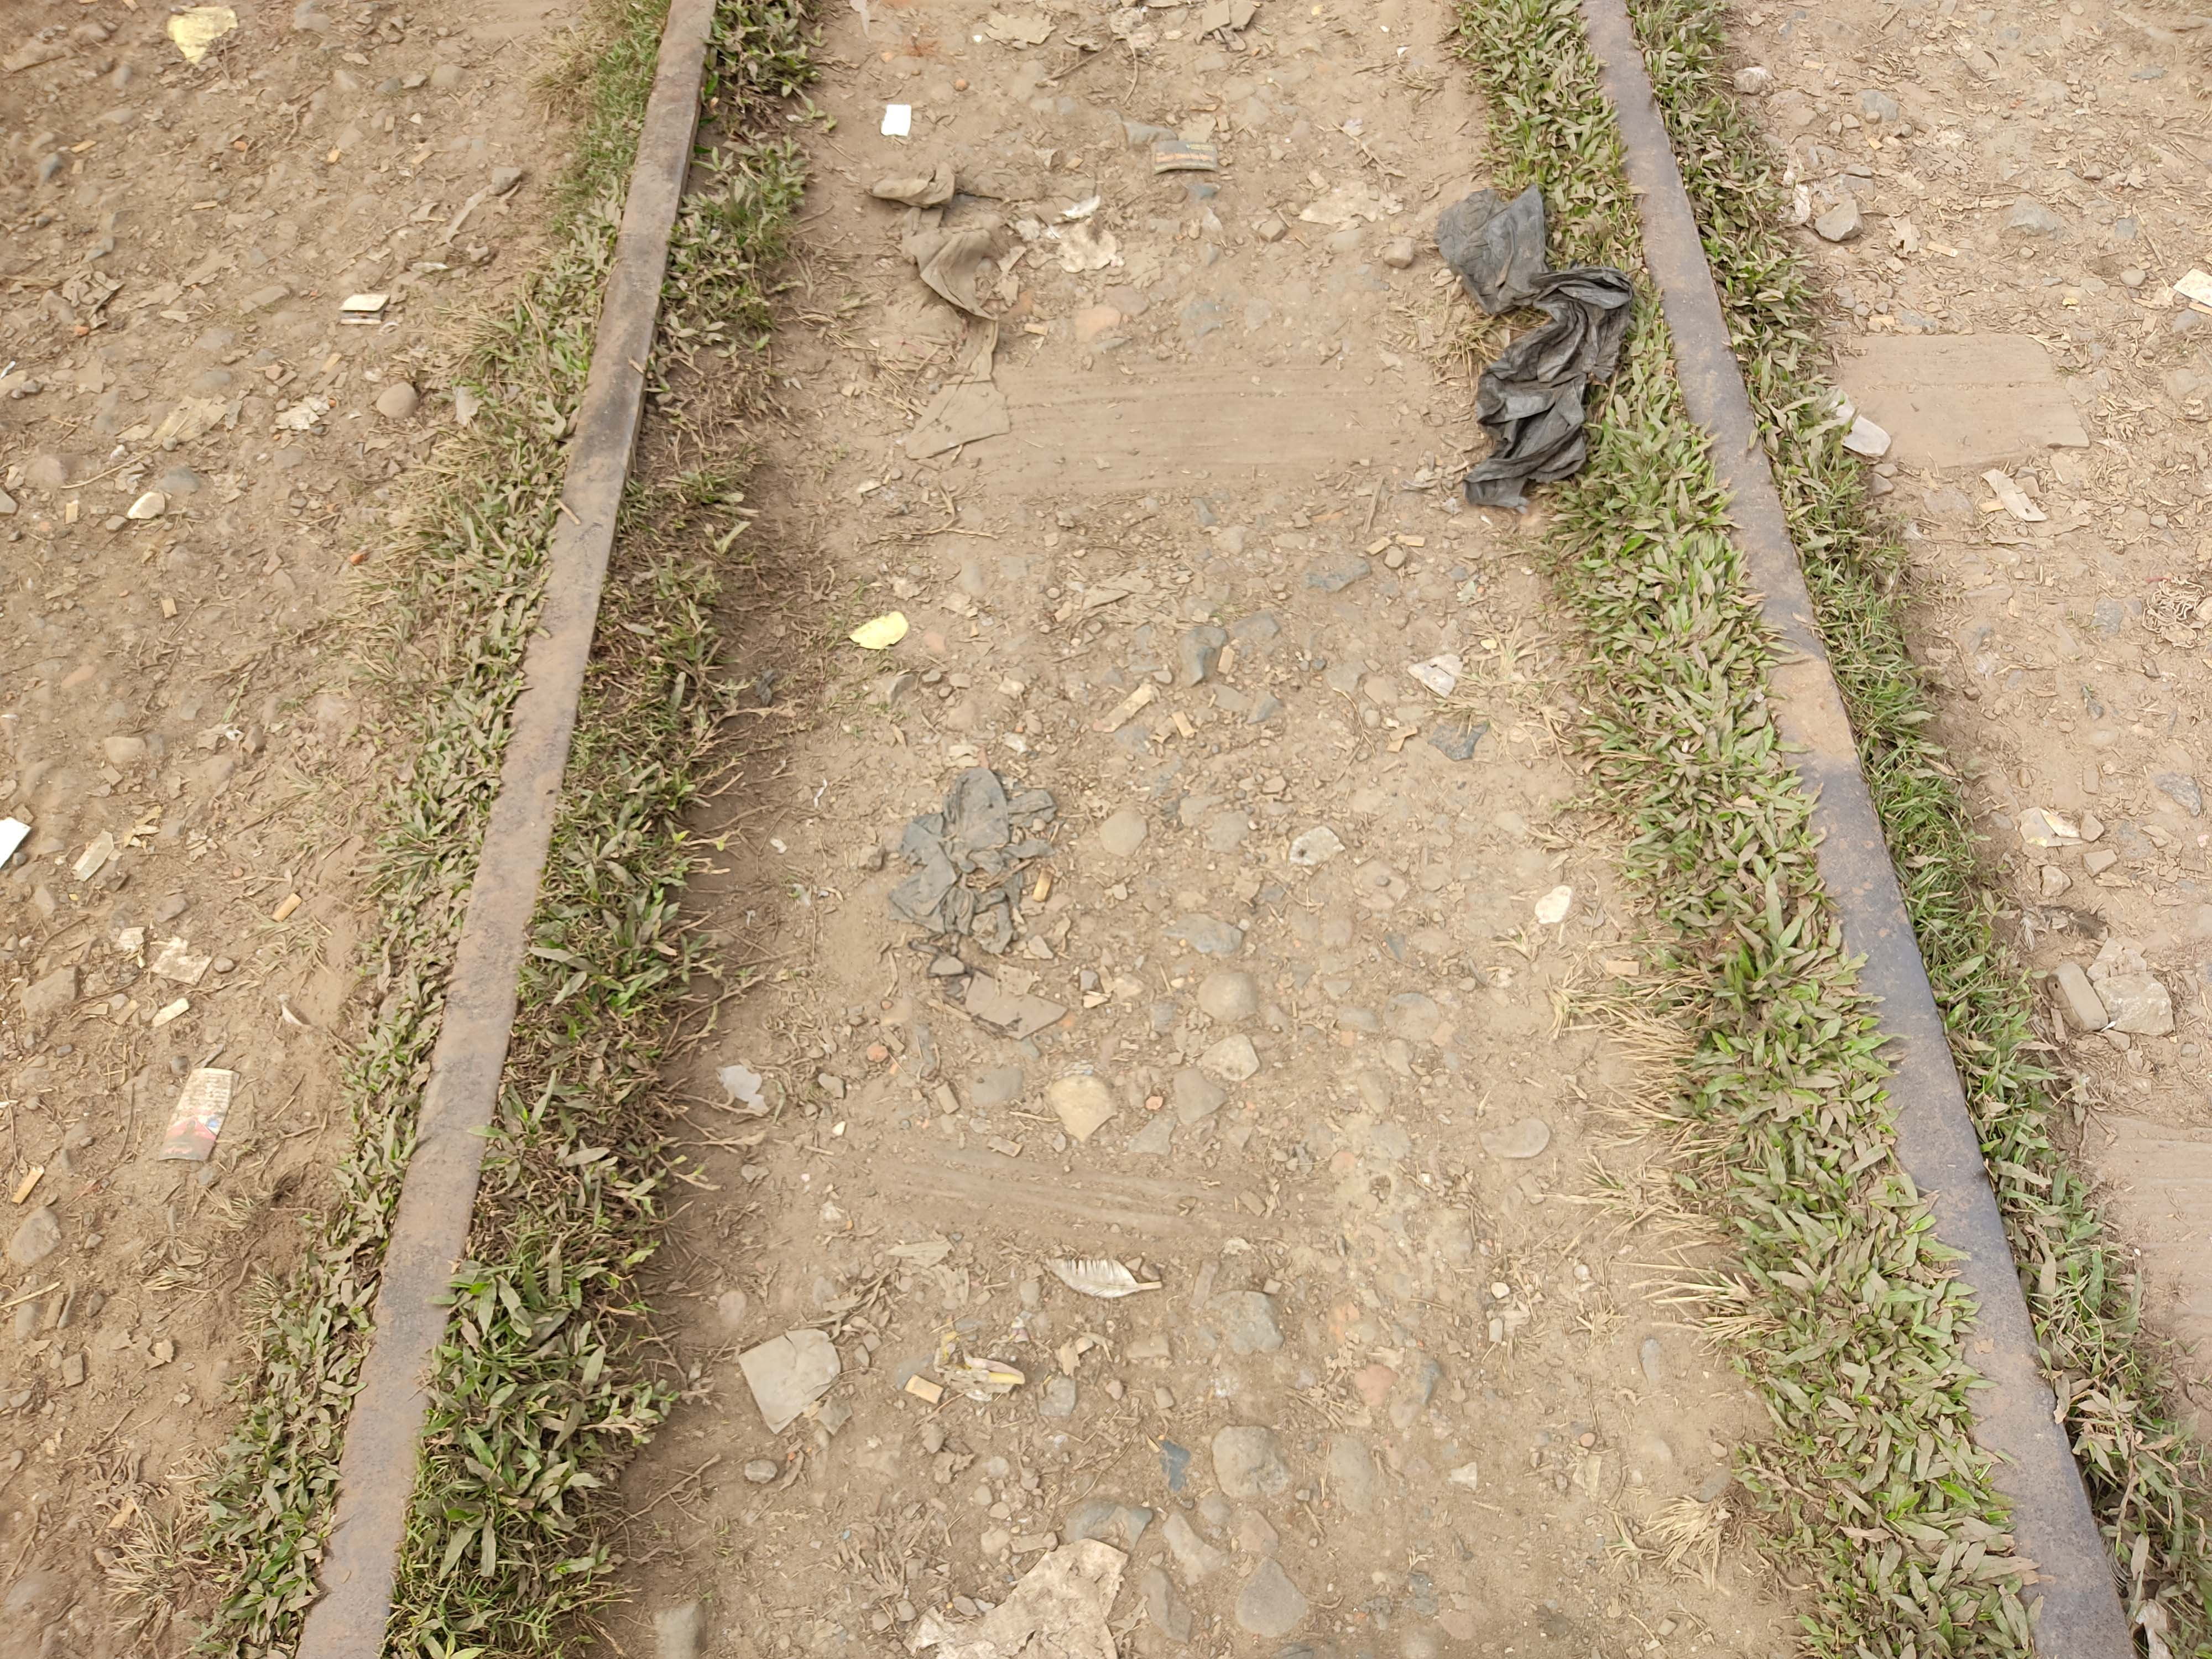error3: (1752, 603, 1921, 826)
